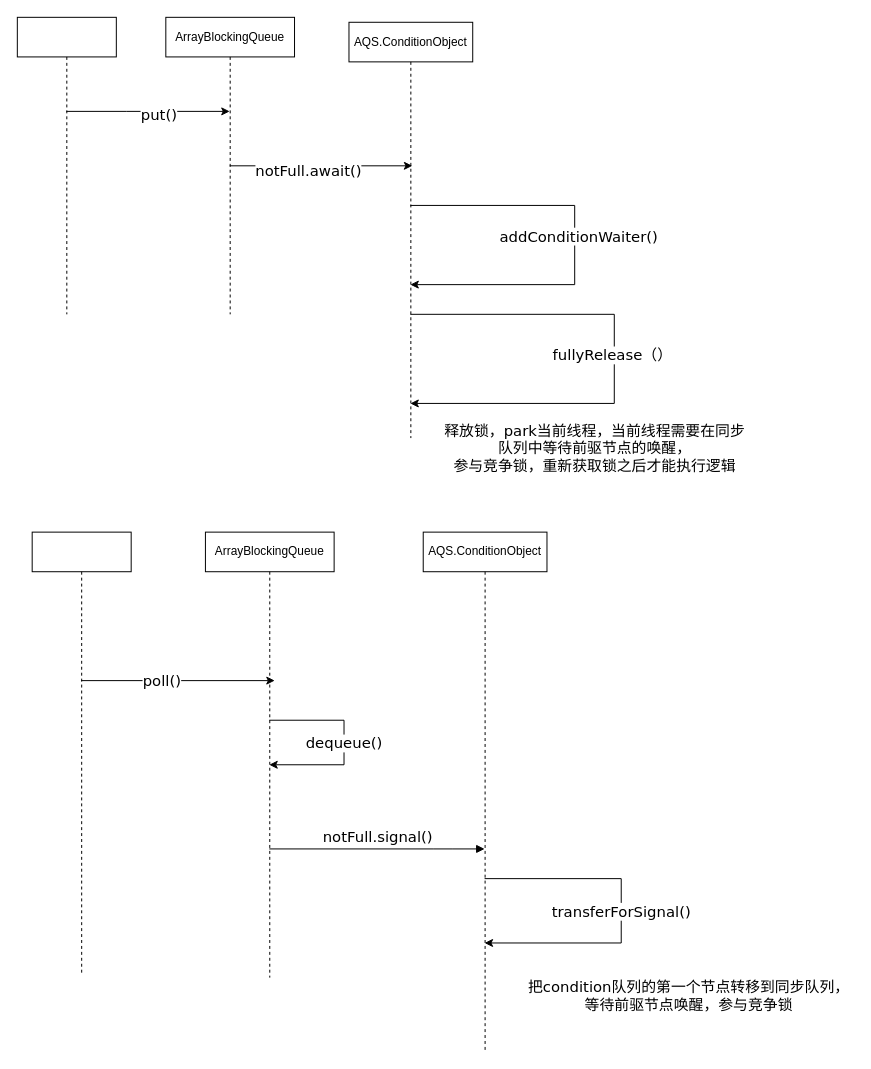
The diagram is 871 pixels wide and 1069 high, and some of its shapes have lost their labels. Each missing label, with the box of its shape:
Thread1: (16, 16, 116, 314)
Thread2: (31, 531, 131, 973)
